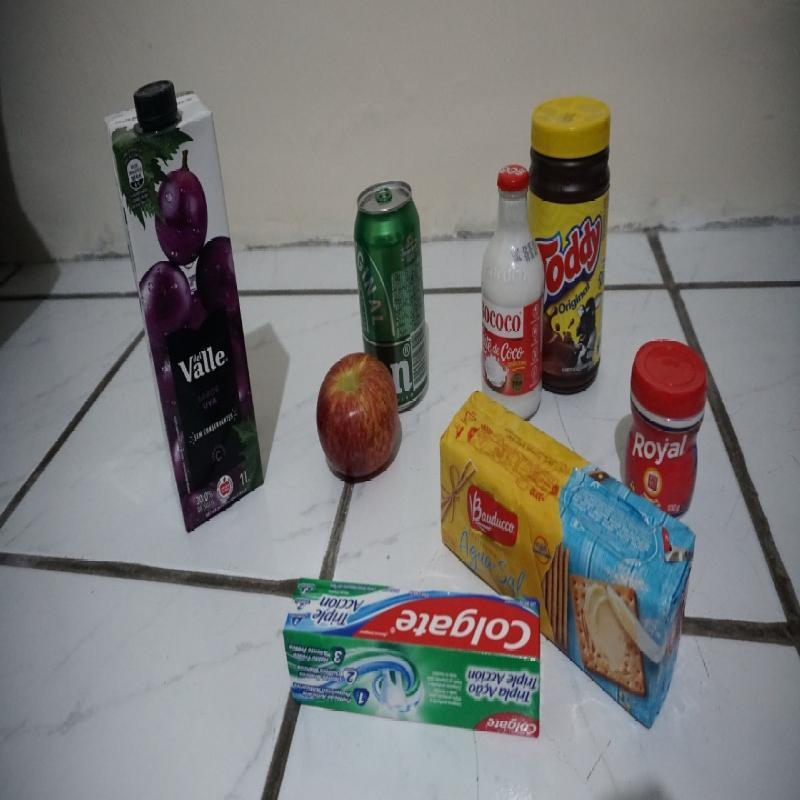Apple: (314, 351, 401, 479)
Beer can: (352, 177, 431, 415)
Chocolate Powder: (529, 97, 614, 395)
Coconut Milk: (479, 162, 547, 428)
Cracker: (439, 389, 696, 729)
Toothpaste: (283, 576, 542, 740)
Yeast: (624, 339, 709, 521)
